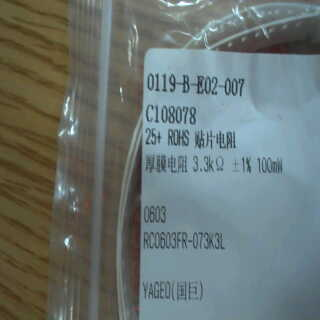3.3kO: (186, 151, 231, 177)
